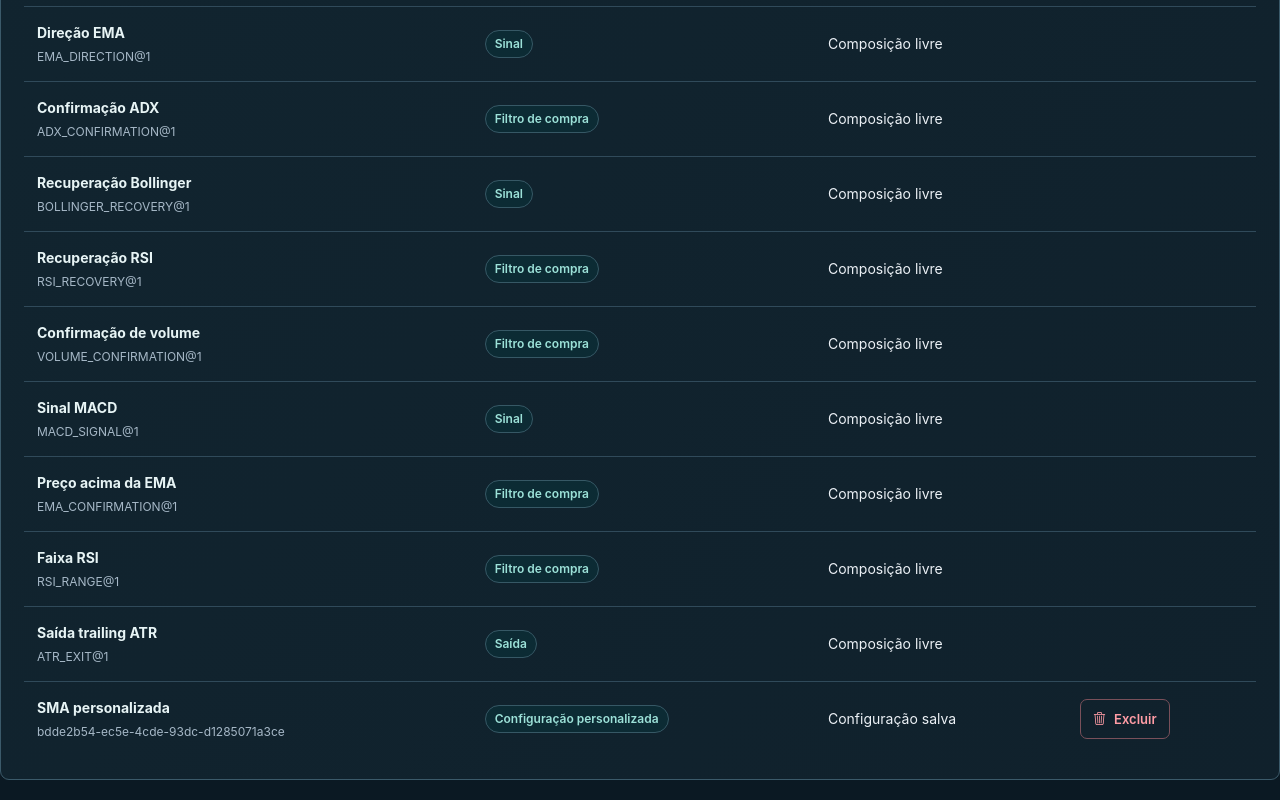
Scenario: mantém a confirmação desabilitada enquanto verifica e permite excluir uma configuração sem vínculos
Later steps or results of the test are not shown.
(page scrolled)
Click the button "Excluir": click(1125, 719) [1080,699,1170,739]
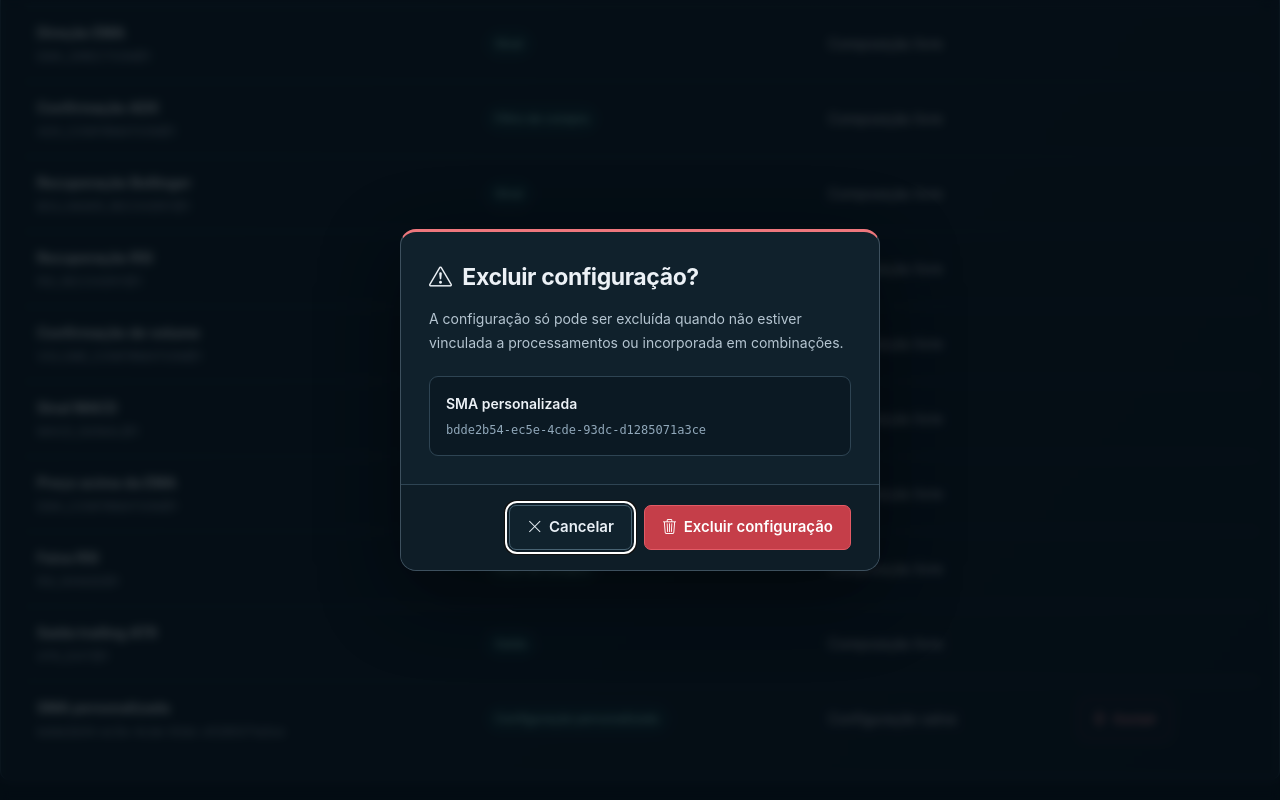
Expected: the button "Excluir configuração" is enabled, [644,505,851,550]
